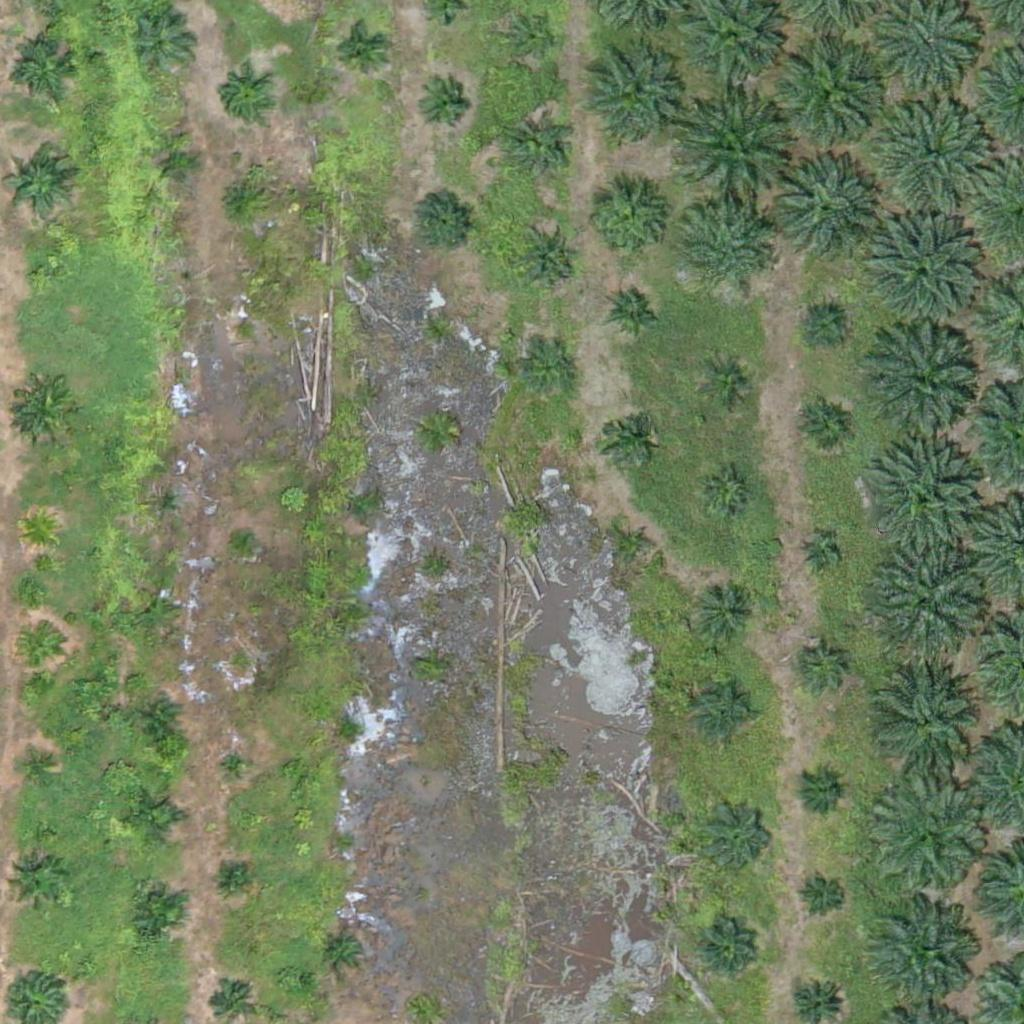Kelapa_Sawit: (880, 97, 993, 211), (873, 783, 986, 897), (766, 153, 879, 266), (870, 442, 983, 555), (871, 544, 984, 657), (871, 659, 984, 772), (772, 41, 884, 155), (680, 97, 792, 211), (866, 902, 978, 1016), (868, 219, 980, 332), (868, 331, 980, 444), (580, 54, 680, 154), (582, 177, 669, 265), (682, 204, 769, 292), (2, 148, 77, 224), (700, 796, 775, 871), (517, 229, 580, 292), (131, 12, 194, 75), (412, 188, 475, 251), (14, 380, 77, 443), (696, 923, 759, 986), (511, 119, 573, 182), (14, 40, 76, 103), (5, 852, 67, 915), (125, 885, 187, 948), (696, 583, 758, 646), (695, 680, 757, 743), (605, 281, 667, 344), (124, 786, 186, 849), (334, 25, 384, 76), (418, 79, 468, 130), (798, 640, 848, 691), (152, 138, 202, 189), (214, 173, 264, 224), (794, 764, 844, 815), (524, 348, 574, 398), (600, 412, 650, 462), (219, 71, 269, 121), (702, 468, 752, 518), (703, 359, 753, 409), (505, 10, 555, 60), (798, 872, 848, 922), (800, 300, 850, 350), (801, 403, 851, 453), (320, 926, 370, 976), (617, 526, 655, 564), (20, 511, 58, 549), (800, 535, 838, 573), (218, 748, 256, 786), (142, 700, 180, 738), (22, 633, 60, 671), (21, 753, 59, 791), (138, 591, 176, 629), (147, 485, 184, 523), (220, 864, 245, 890), (232, 525, 257, 550), (229, 316, 254, 341), (30, 263, 55, 288)
